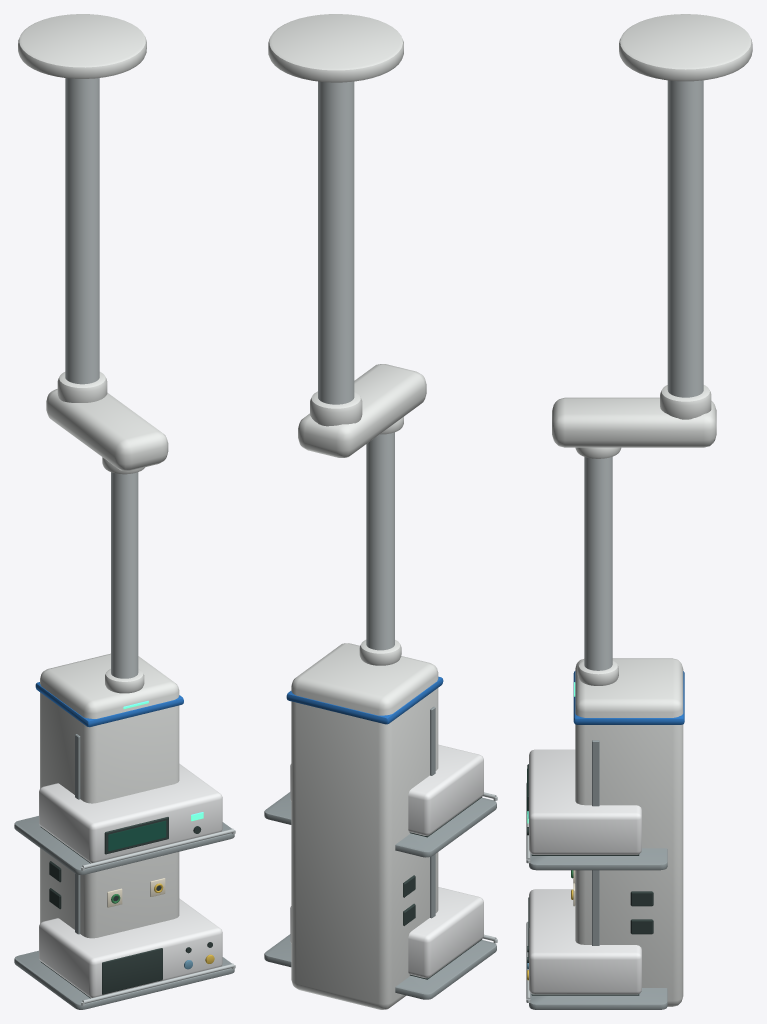
The model's file is sc-surgical-pendant.glb.
3 renders of one model, left to right at view 1: azimuth 30°, elevation 25°; view 2: azimuth 150°, elevation 25°; view 3: azimuth 270°, elevation 25°, orthographic. The views are drawn at different scales.
Parts seen in each view (by area): view 1: sc-surgical-pendant; view 2: sc-surgical-pendant; view 3: sc-surgical-pendant.
Boxes of the visible parts, box(x1,y1,x2,y2) form: sc-surgical-pendant: box(14, 14, 235, 1009); sc-surgical-pendant: box(264, 14, 497, 1009); sc-surgical-pendant: box(526, 14, 752, 1009).
Size of the model in its own units: 0.74 by 4.06 by 0.88.
